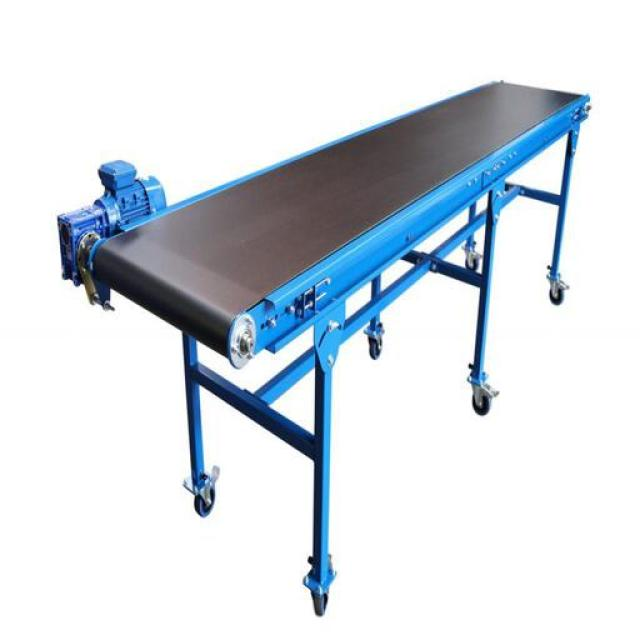conveyor: (85, 79, 589, 363)
